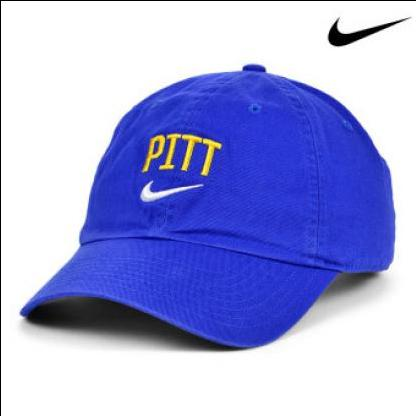cap: (10, 58, 402, 356)
